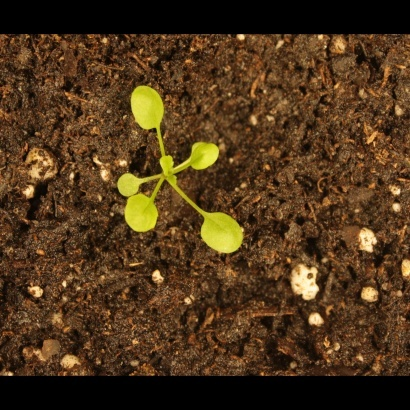leaf: (195, 207, 249, 258), (126, 81, 172, 133), (120, 191, 170, 238), (184, 140, 224, 173), (114, 171, 144, 200), (155, 155, 180, 180)
